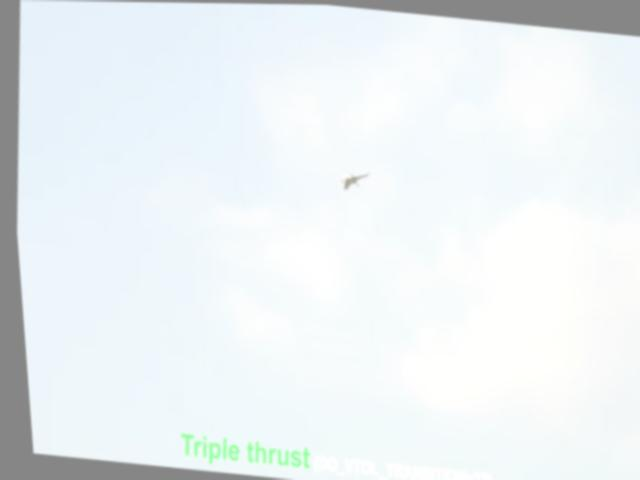plane: (337, 169, 368, 190)
